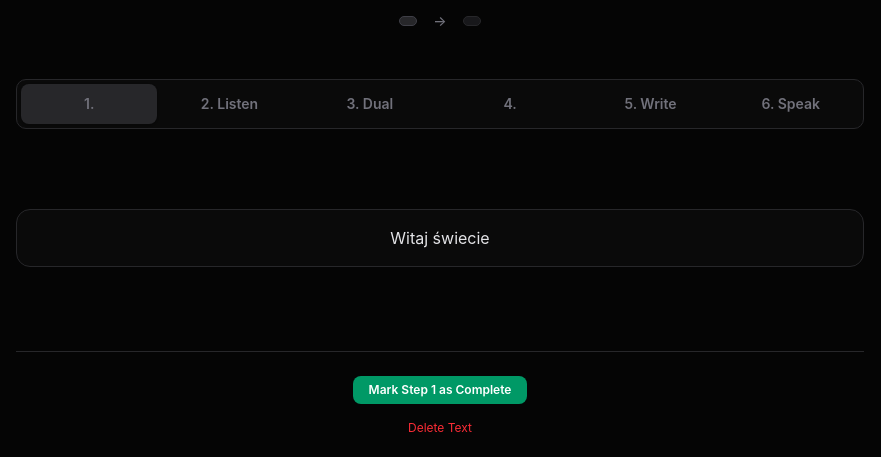
Test: Text › displays delete button and confirmation flow
Expected: the text "Witaj świecie" is shown, [382, 226, 498, 250]
# Click delete button
Click the button "Delete Text" at (440, 428), box [398, 416, 482, 440]
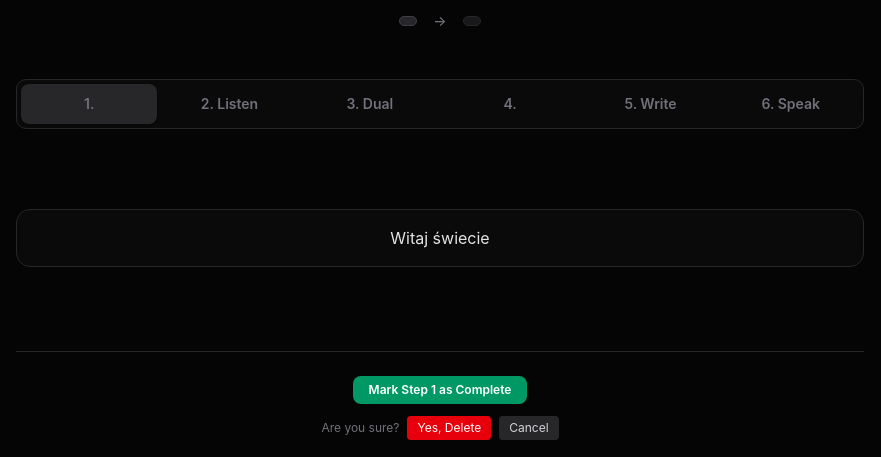
Result: the text "Are you sure?" is shown at [321, 420, 399, 436]
Result: the button "Yes, Delete" is shown at [408, 416, 491, 440]
Result: the button "Cancel" is shown at [499, 416, 559, 440]
